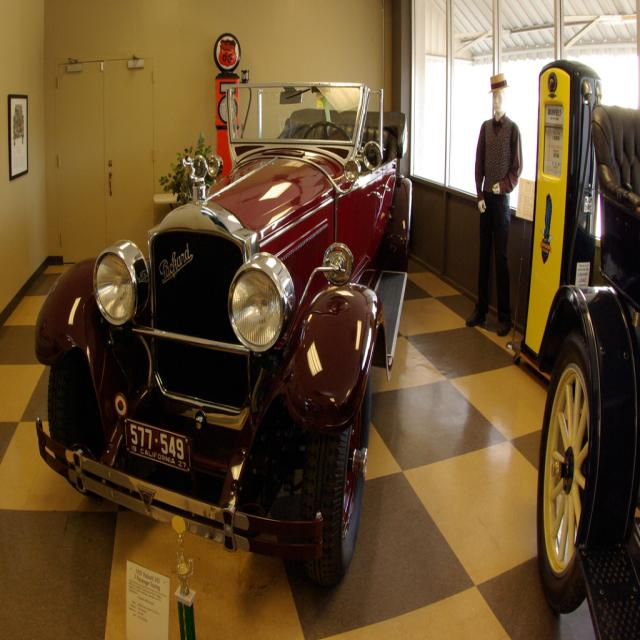car: (33, 55, 408, 602)
